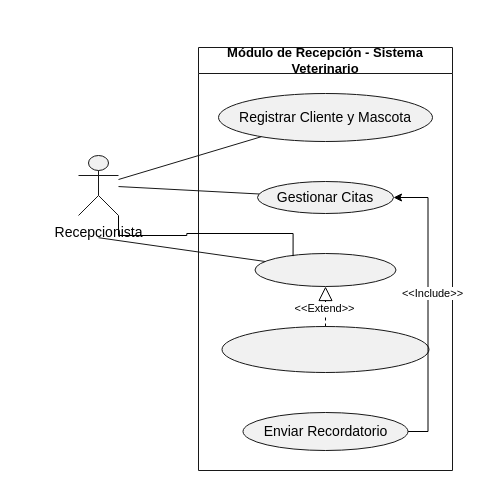
Image size: 480x488. Some labels were removed from this diagram. The shapes that lost their labels are listed below. From the top down, each one's centre as x and y in pixels, then its label:
At [325,269]: "Cobrar Servicio".
At [325,349]: "Cancelar / Reagendar Cita".
